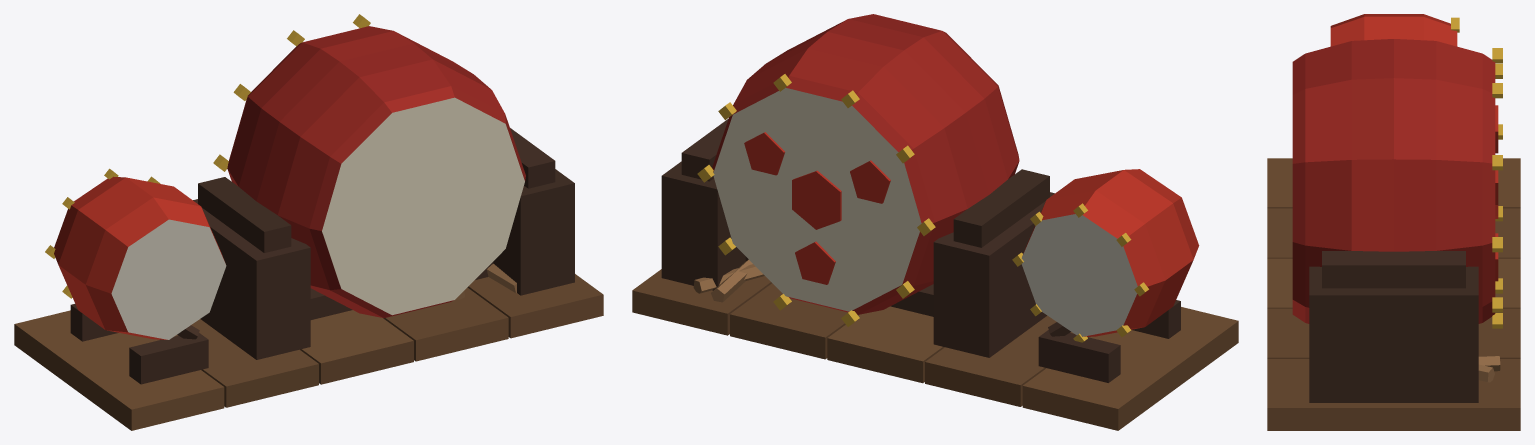
Rendered from Decor_SamuraiShrine_Taiko.fbx.
3 renders of one model, left to right at view 1: azimuth 30°, elevation 25°; view 2: azimuth 150°, elevation 25°; view 3: azimuth 270°, elevation 25°, orthographic. The views are drawn at different scales.
Visible parts, largest first — view 1: Taiko_Body; view 2: Taiko_Body; view 3: Taiko_Body.
Part boxes in pixels (x1,y1,x2,y2): Taiko_Body: (14, 14, 603, 430); Taiko_Body: (632, 14, 1238, 430); Taiko_Body: (1267, 14, 1520, 430).
Size of the model in its own units: 14 by 7.4 by 6.
